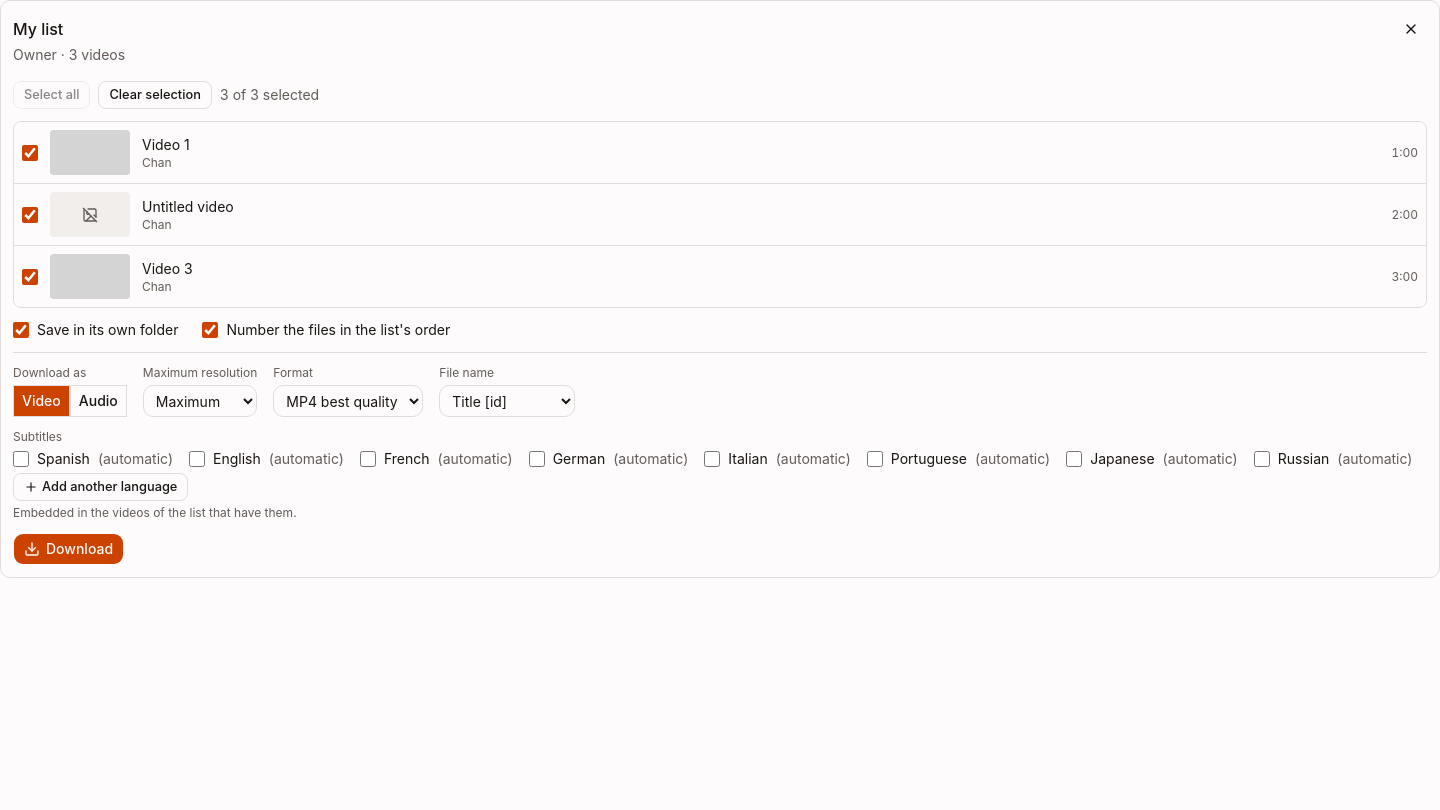
Test: the Download button › saves in the playlist's folder unless that is unticked
This screenshot has width=1440, height=810.
Step 1. Click the checkbox labelled "Save in its own folder" → {"x": 21, "y": 330}, box [13,322,29,338]
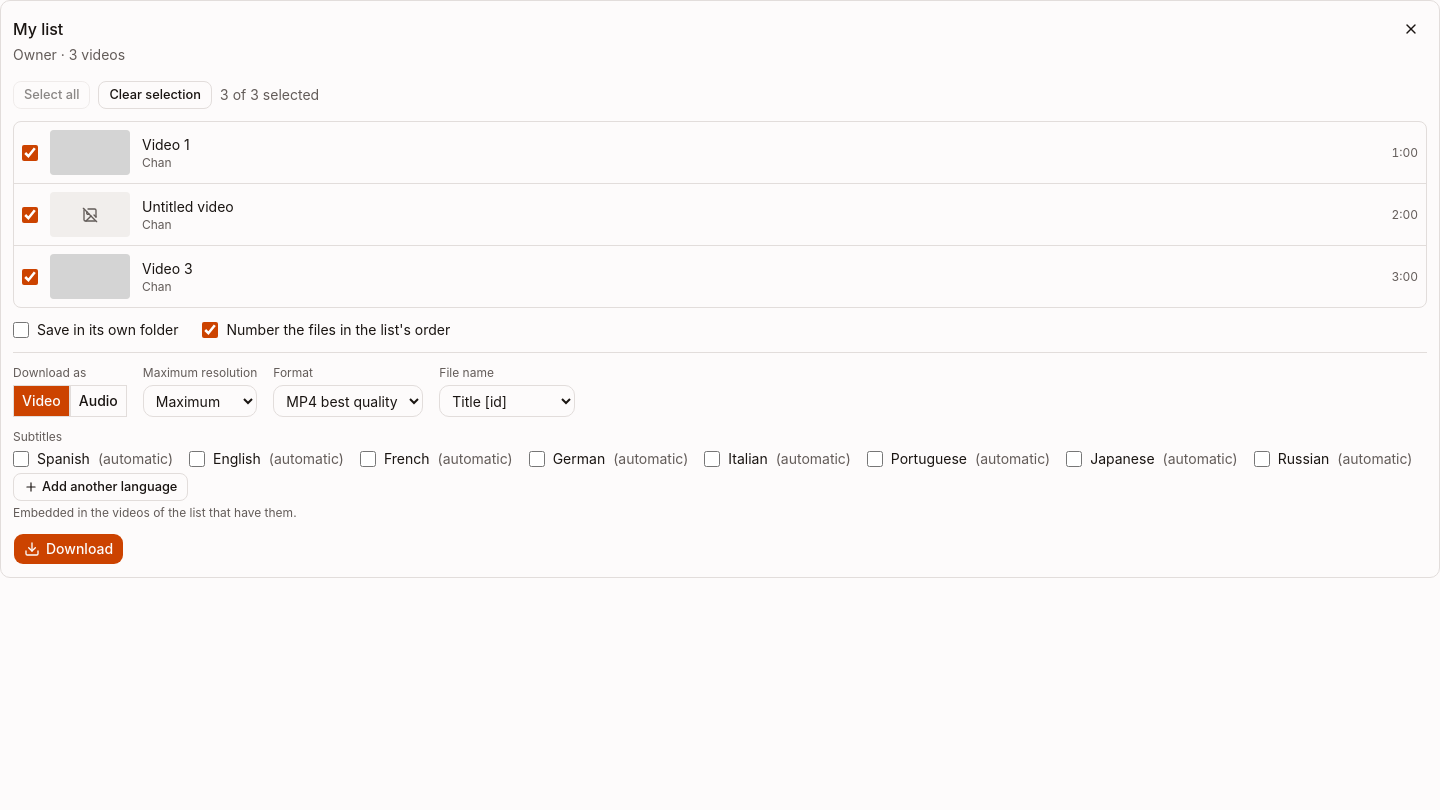
Expected: the checkbox labelled "Save in its own folder" is not checked, [13,322,29,338]
Step 2. Click the button "Download" → {"x": 69, "y": 549}, box [13,533,124,565]
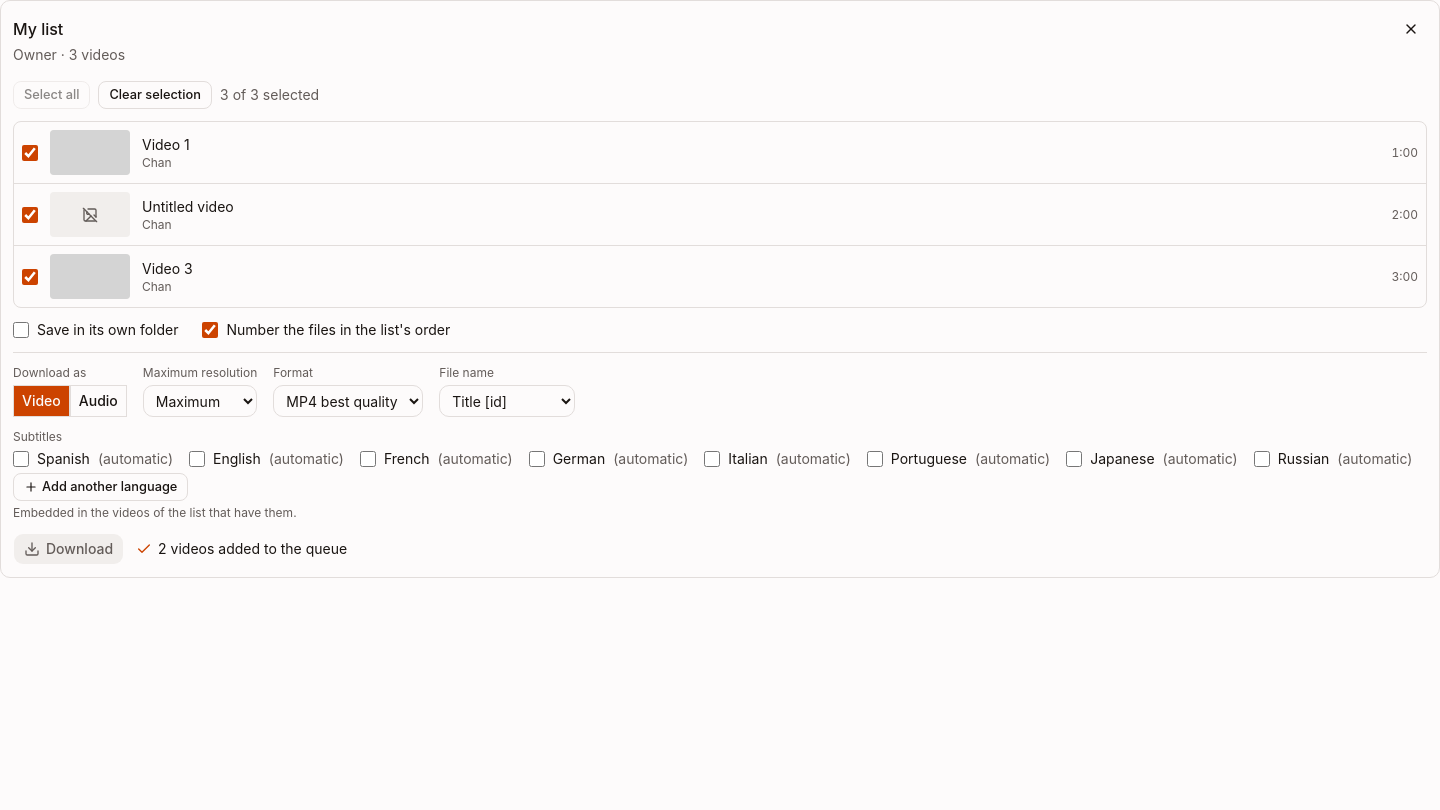
Expected: the message "2 videos added to the queue" is shown, [136,539,347,559]
